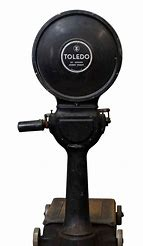Industrial Scale: (16, 9, 125, 245)
